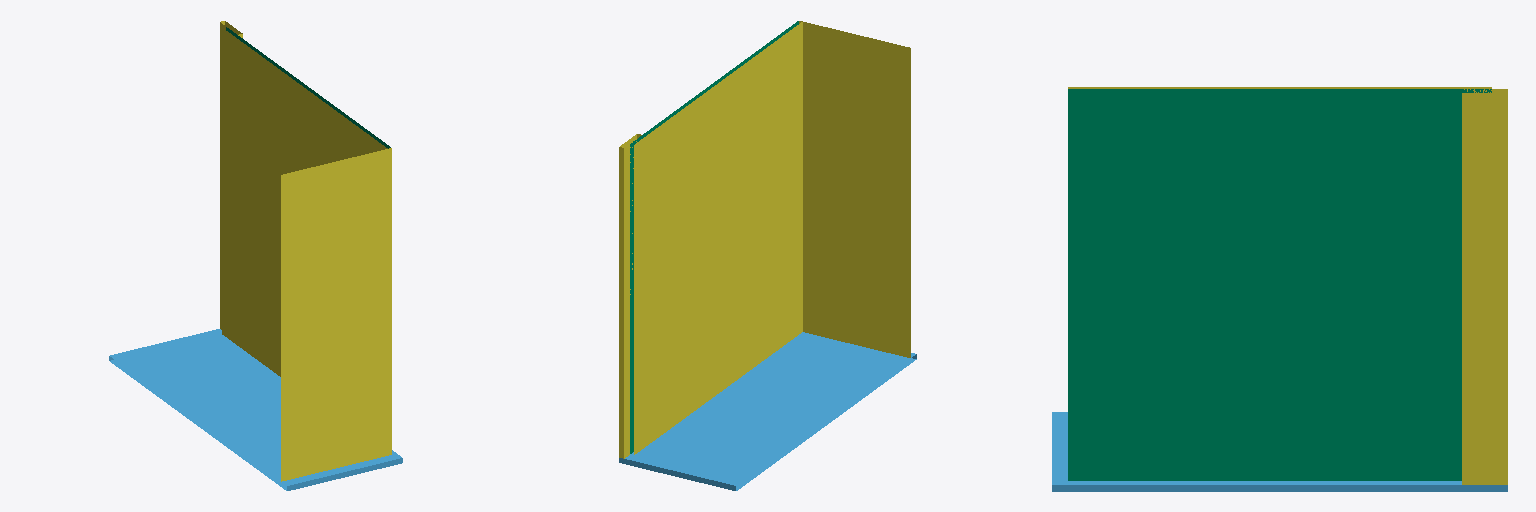
robot.urdf — partnet_2491245e09a41b59a4fb4a070051861:
<?xml version="1.0" ?>
<robot name="partnet_2491245e09a41b59a4fb4a070051861">
	<link name="base"/>
	<link name="link_0">
		<visual name="outside_frame-1">
			<origin xyz="0 0 0"/>
			<geometry>
				<mesh filename="textured_objs/original-9.obj"/>
			</geometry>
		</visual>
		<collision>
			<origin xyz="0 0 0"/>
			<geometry>
				<mesh filename="textured_objs/original-9.obj"/>
			</geometry>
		</collision>
	</link>
	<joint name="joint_0" type="fixed">
		<origin rpy="1.570796326794897 0 -1.570796326794897" xyz="0 0 0"/>
		<child link="link_0"/>
		<parent link="base"/>
	</joint>
	<link name="link_1">
		<visual name="surface_board-8">
			<origin xyz="0.3269113278144757 0 -0.07601752325334876"/>
			<geometry>
				<mesh filename="textured_objs/original-8.obj"/>
			</geometry>
		</visual>
		<collision>
			<origin xyz="0.3269113278144757 0 -0.07601752325334876"/>
			<geometry>
				<mesh filename="textured_objs/original-8.obj"/>
			</geometry>
		</collision>
	</link>
	<joint name="joint_1" type="revolute">
		<origin xyz="-0.3269113278144757 0 0.07601752325334876"/>
		<axis xyz="0 1 0"/>
		<child link="link_1"/>
		<parent link="link_0"/>
		<limit effort="1000" lower="-0.4398229715025708" upper="1.1938052083641215" velocity="5"/>
	</joint>
	<link name="link_2">
		<visual name="movable_part-17">
			<origin xyz="-0.23196082660131712 0.05521008624747266 0.18896007730082717"/>
			<geometry>
				<mesh filename="textured_objs/original-4.obj"/>
			</geometry>
		</visual>
		<visual name="movable_part-17">
			<origin xyz="-0.23196082660131712 0.05521008624747266 0.18896007730082717"/>
			<geometry>
				<mesh filename="textured_objs/original-3.obj"/>
			</geometry>
		</visual>
		<visual name="movable_part-16">
			<origin xyz="-0.23196082660131712 0.05521008624747266 0.18896007730082717"/>
			<geometry>
				<mesh filename="textured_objs/original-6.obj"/>
			</geometry>
		</visual>
		<visual name="movable_part-16">
			<origin xyz="-0.23196082660131712 0.05521008624747266 0.18896007730082717"/>
			<geometry>
				<mesh filename="textured_objs/original-7.obj"/>
			</geometry>
		</visual>
		<collision>
			<origin xyz="-0.23196082660131712 0.05521008624747266 0.18896007730082717"/>
			<geometry>
				<mesh filename="textured_objs/original-4.obj"/>
			</geometry>
		</collision>
		<collision>
			<origin xyz="-0.23196082660131712 0.05521008624747266 0.18896007730082717"/>
			<geometry>
				<mesh filename="textured_objs/original-3.obj"/>
			</geometry>
		</collision>
		<collision>
			<origin xyz="-0.23196082660131712 0.05521008624747266 0.18896007730082717"/>
			<geometry>
				<mesh filename="textured_objs/original-6.obj"/>
			</geometry>
		</collision>
		<collision>
			<origin xyz="-0.23196082660131712 0.05521008624747266 0.18896007730082717"/>
			<geometry>
				<mesh filename="textured_objs/original-7.obj"/>
			</geometry>
		</collision>
	</link>
	<joint name="joint_2" type="revolute">
		<origin xyz="0.5588721544157929 -0.05521008624747266 -0.26497760055417596"/>
		<axis xyz="-0.4115148061598102 0 -0.9114030745566166"/>
		<child link="link_2"/>
		<parent link="link_1"/>
		<limit lower="-0.7853981633974483" upper="0.7853981633974483"/>
	</joint>
</robot>

--- What the picture shows (computed from the rendered views, not written in the file) ---
Views: 3 orthographic renders of the robot side by side, from view 1: azimuth 30°, elevation 25°; view 2: azimuth 150°, elevation 25°; view 3: azimuth 270°, elevation 25°.
Robot: partnet_2491245e09a41b59a4fb4a070051861 — 4 links, 3 joints (2 revolute, 1 fixed); root link base; default pose: all joints at 0.
Links seen in each view (by area): view 1: link_2, link_0, link_1; view 2: link_2, link_0, link_1; view 3: link_1, link_2, link_0.
Link boxes in pixels (x1,y1,x2,y2): link_2: [220, 21, 391, 481]; link_0: [109, 329, 402, 490]; link_1: [226, 27, 390, 148]; link_2: [619, 21, 910, 458]; link_0: [619, 332, 916, 490]; link_1: [630, 21, 798, 453]; link_1: [1068, 89, 1491, 480]; link_2: [1068, 87, 1507, 484]; link_0: [1052, 412, 1507, 491].
Size in the robot's own frame: 0.5271 by 1.41 by 1.36 metres.
Meshes: 6 distinct files referenced, 5 mesh visuals loaded (5 OBJ); not drawn: 1 (reference not matched to a file when rendering).